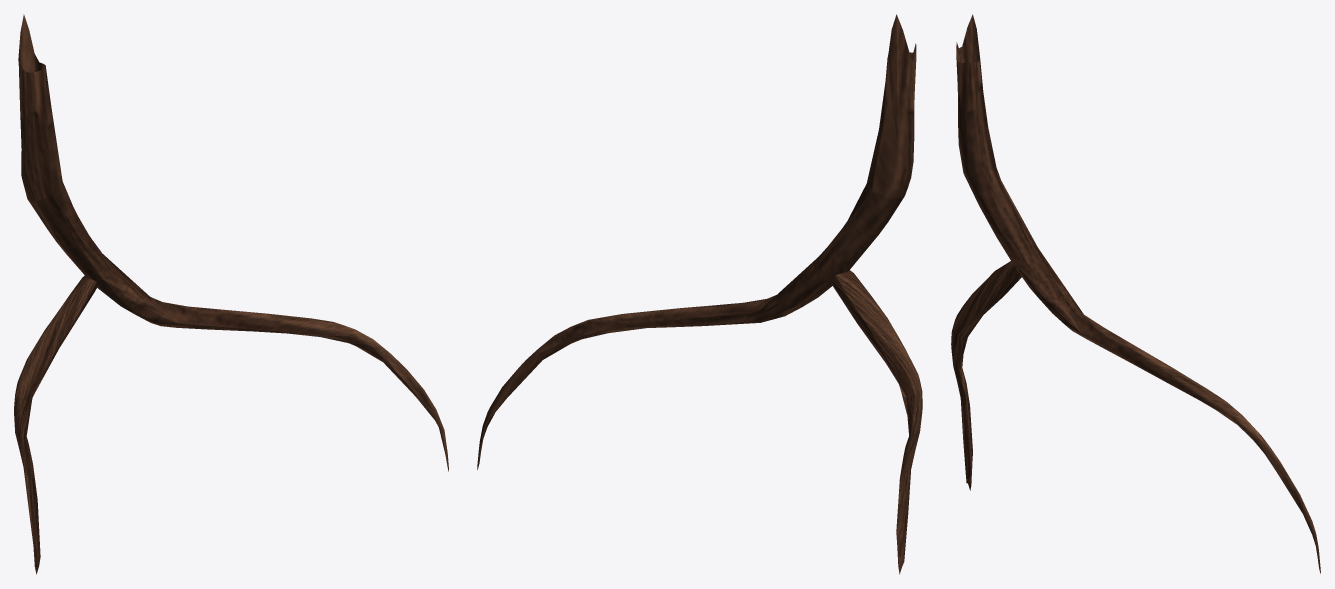
File: wallroots4.FBX
3 views of the same model, side by side, from view 1: azimuth 30°, elevation 25°; view 2: azimuth 150°, elevation 25°; view 3: azimuth 330°, elevation 25° (orthographic). The views are drawn at different scales.
Visible parts, largest first — view 1: Line001; view 2: Line001; view 3: Line001.
Part boxes in pixels (left/top/right/bottom): Line001: left=14, top=14, right=448, bottom=574; Line001: left=477, top=14, right=922, bottom=574; Line001: left=951, top=14, right=1320, bottom=573.
Bounding box in the file's own units: 115 × 141 × 9.34.
1 material, 1 textured.
